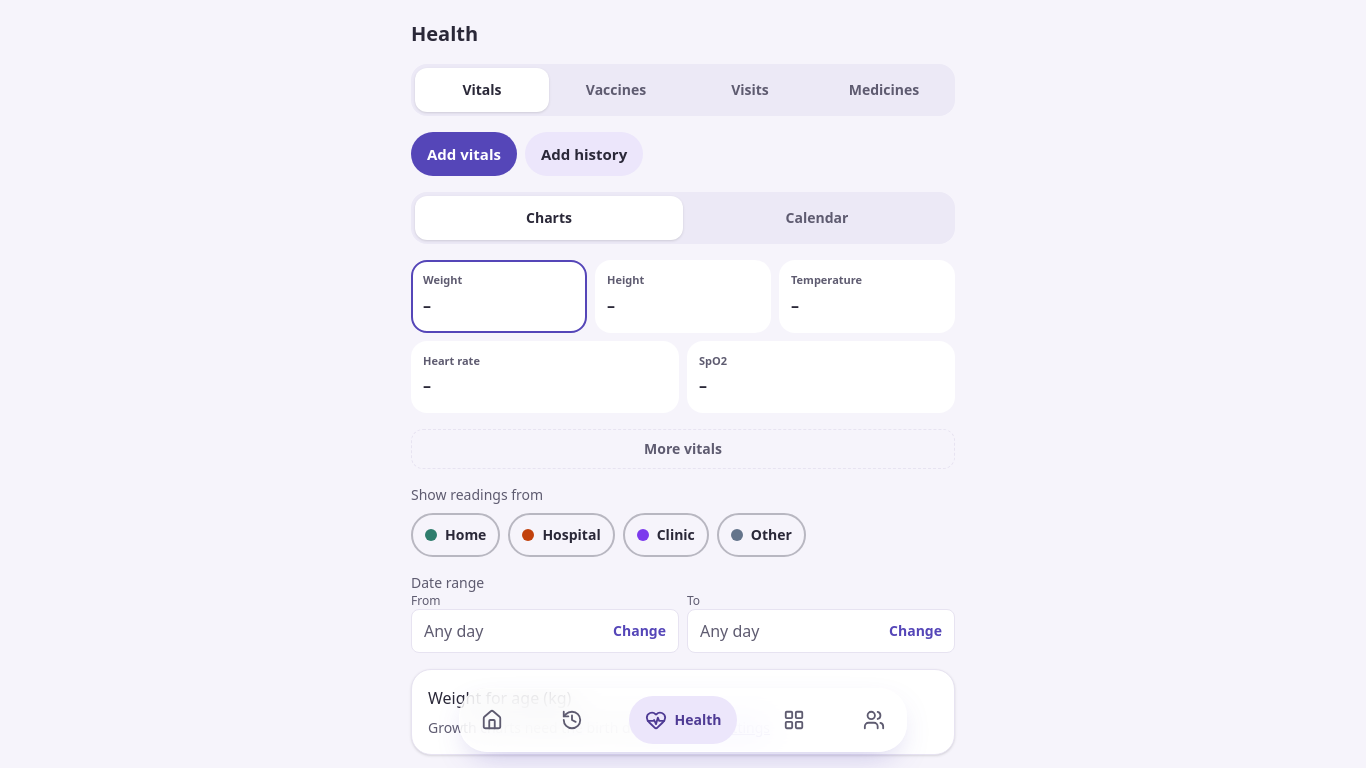
head circumference and breathing rate wait under More vitals in the form
Click the button "Add vitals": (464, 154) [411,132,517,176]
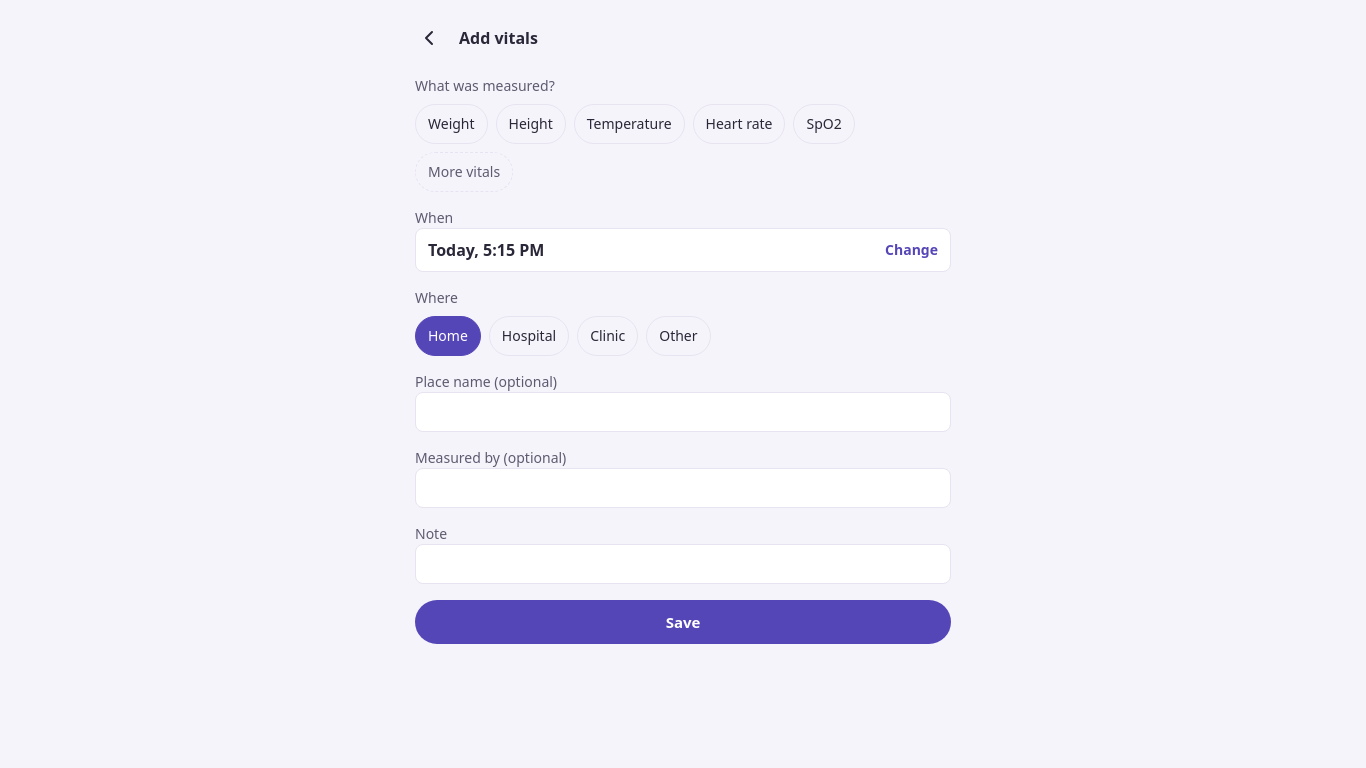
Check: the button "Weight" is shown, box [415,104,488,144]
Check: the button "Height" is shown, box [496,104,566,144]
Check: the button "Temperature" is shown, box [574,104,685,144]
Click the button "More vitals": (464, 172) [415,152,513,192]
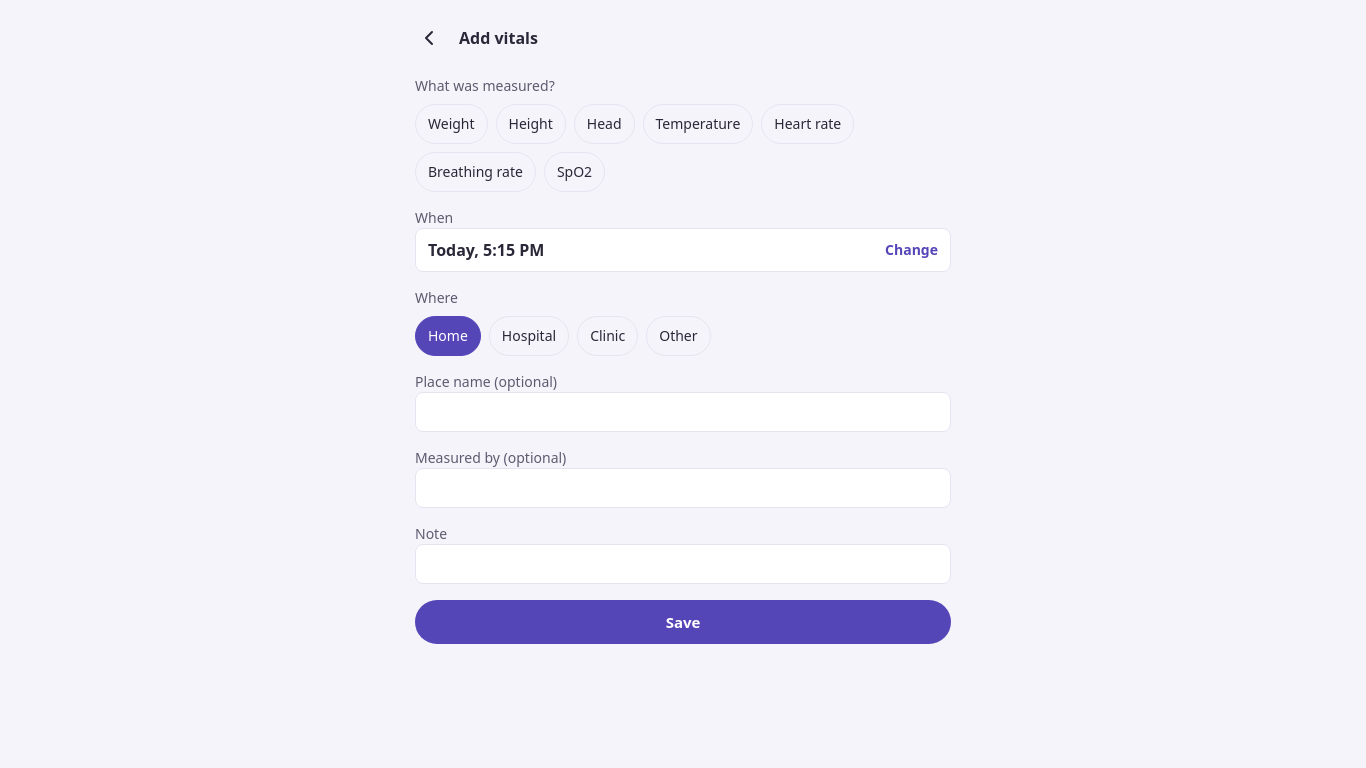
Check: the button "Head" is shown, box [574,104,634,144]
Check: the button "Breathing rate" is shown, box [415,152,536,192]
